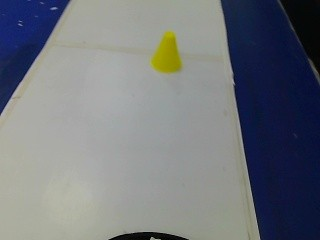cone: (148, 29, 181, 74)
